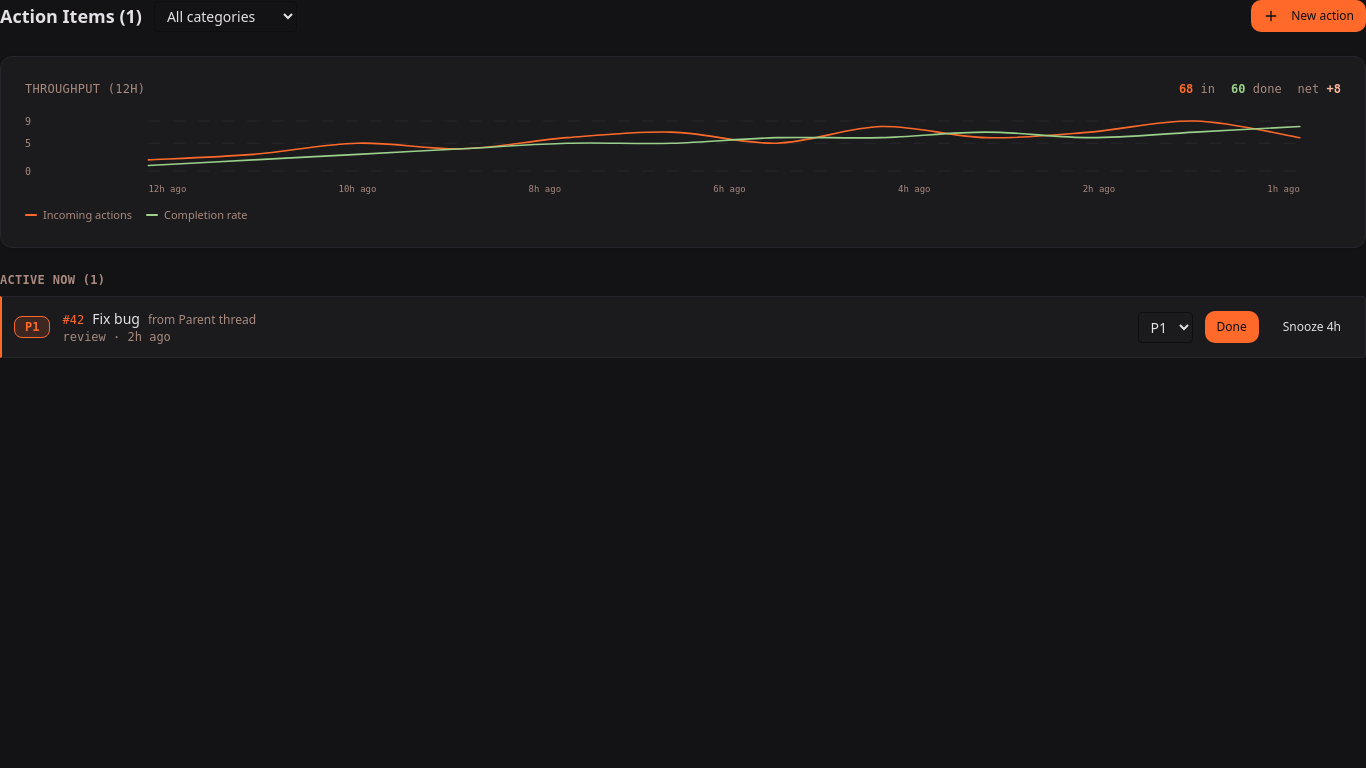
Test: Action Items page › surfaces a 422 (blank summary) inline from the create dialog
expect the text "Fix bug" is shown: met, box [92, 309, 140, 328]
Click the button "New action". click: click(1309, 16)
box: [1251, 0, 1365, 32]
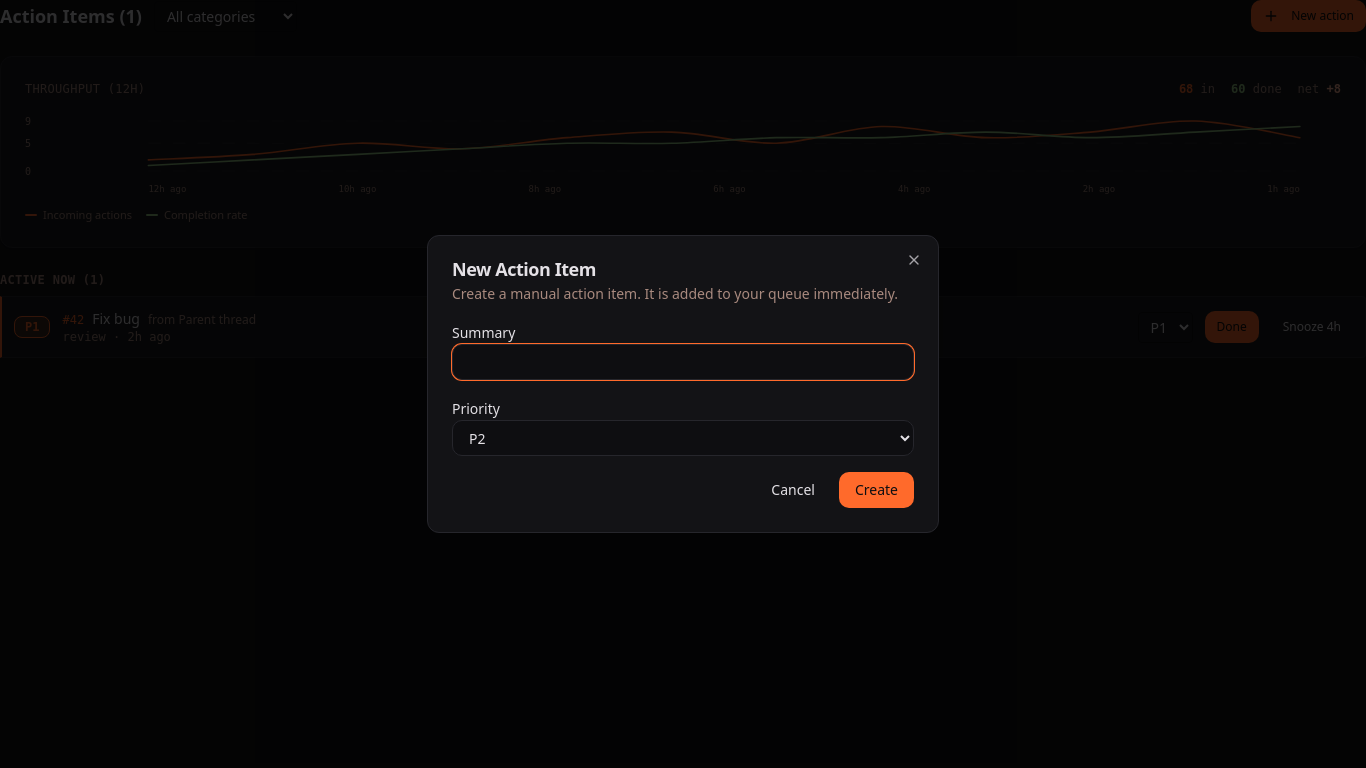
Type "x" into the field labelled "Summary". click: (683, 362)
box: [452, 344, 914, 380]
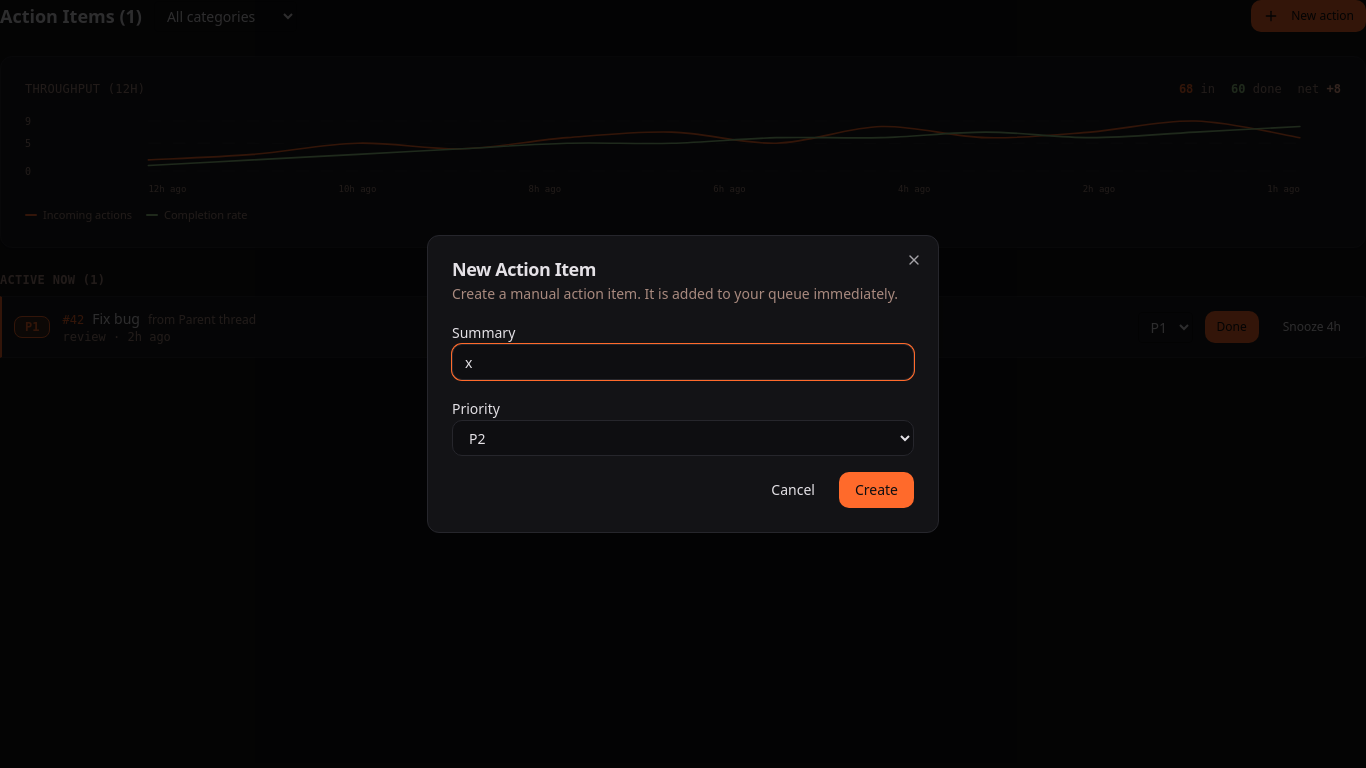
Click the button "Create". click: click(876, 490)
box: [839, 472, 914, 508]
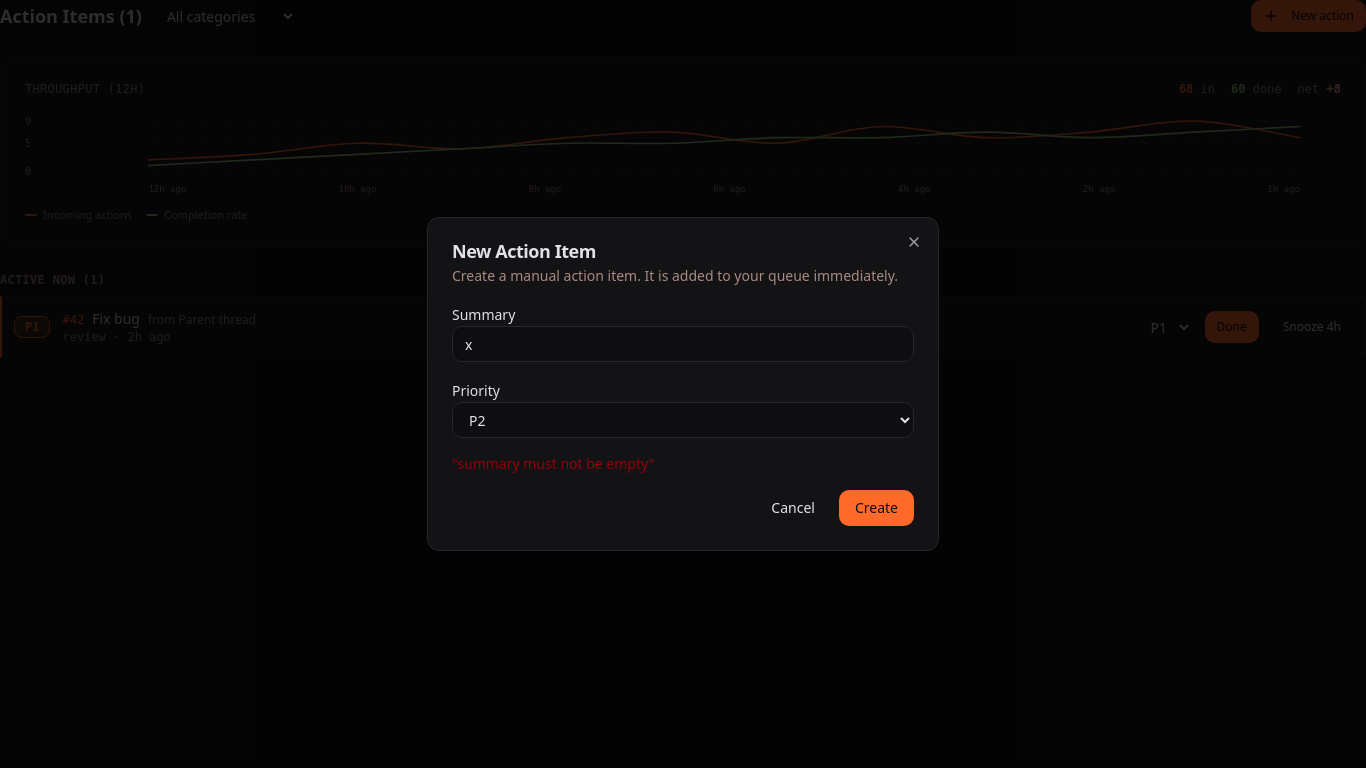
expect the text "\"summary must not be empty\"" is shown: met, box [452, 454, 654, 473]
